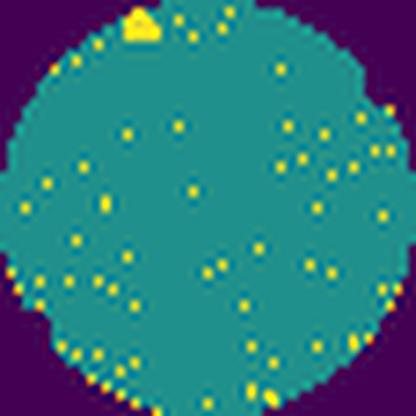Loc: (124, 8, 167, 44)
